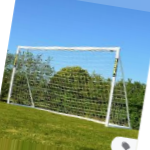goals: (6, 43, 133, 131)
